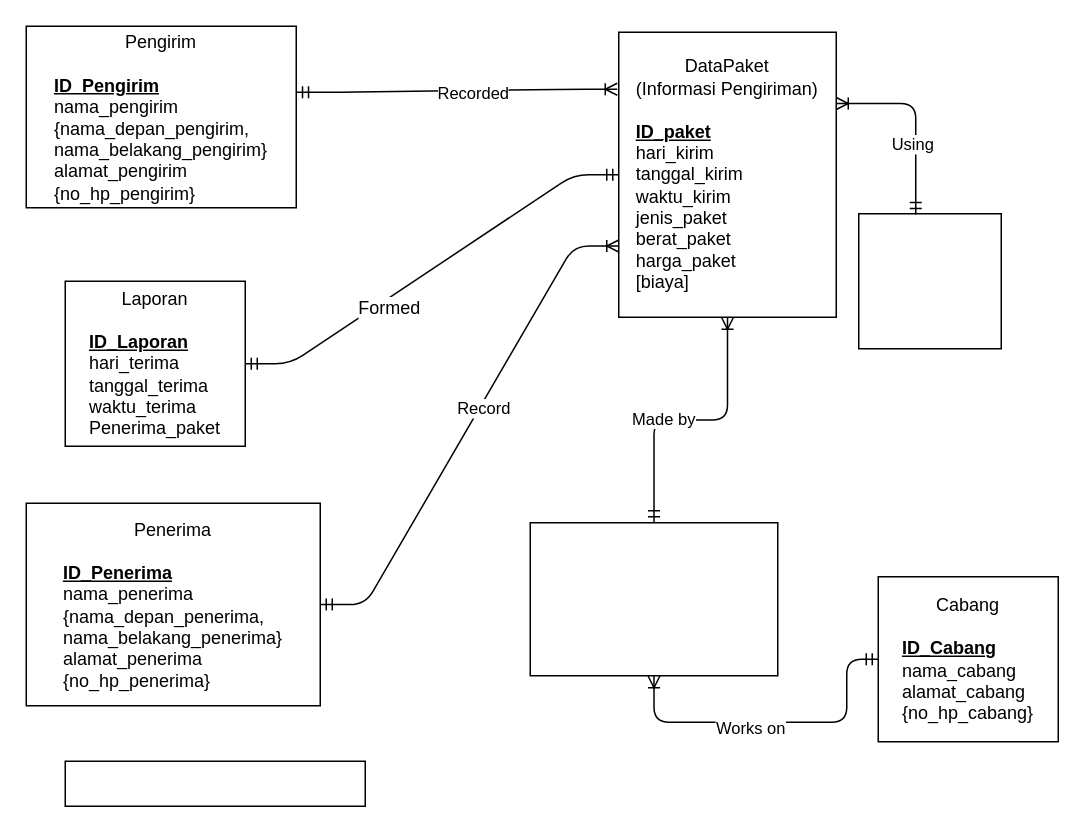
Image size: 1085x833. Some labels were removed from this diagram. The box of each missing label's shape, as (x1, y1, x2, y2) in pixels:
Admin ID_Admin nama_admin {nama_depan_admin, nama_belakang_admin}: (529, 521, 778, 676)
E-R Diagram: (64, 760, 365, 806)
Layanan ID_Layanan Nama_Layanan Biayaperjarak: (857, 212, 1001, 349)
